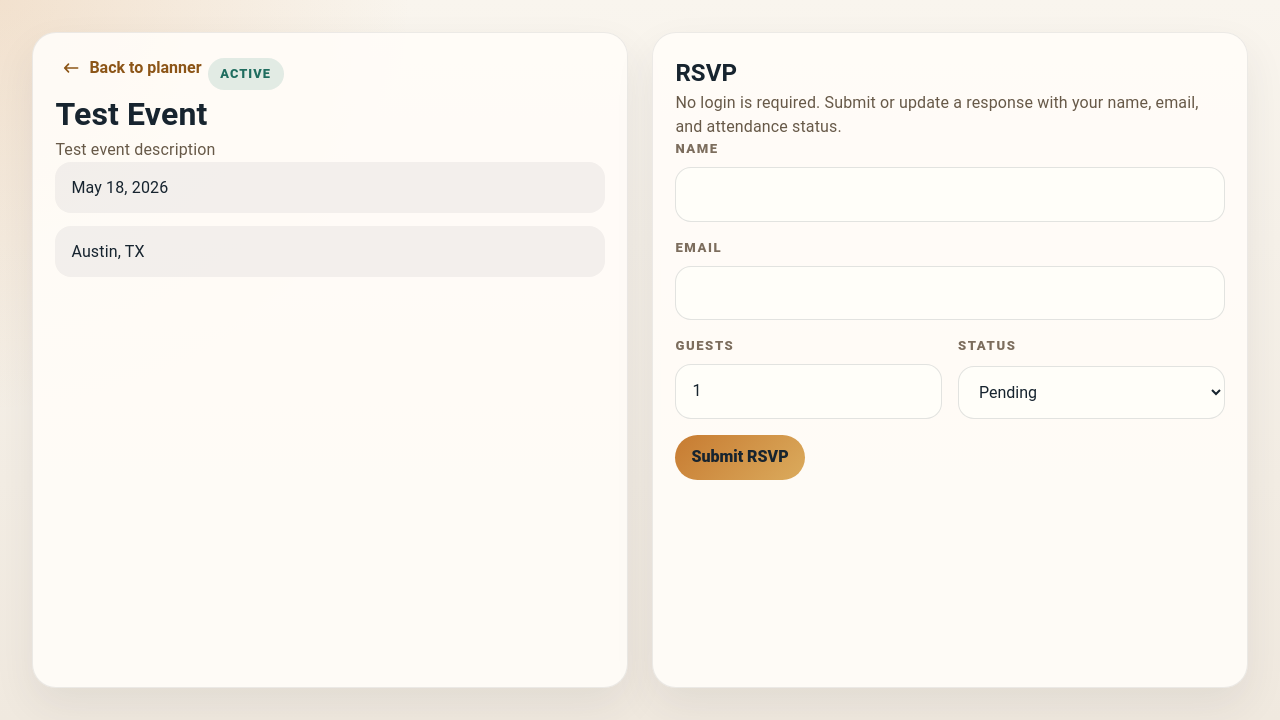
Test case: EventPlannerApp › submits a public rsvp without requiring login
Type "Public Guest" into the field labelled "Name" at [950, 194], box x1=675 y1=167 x2=1225 y2=222
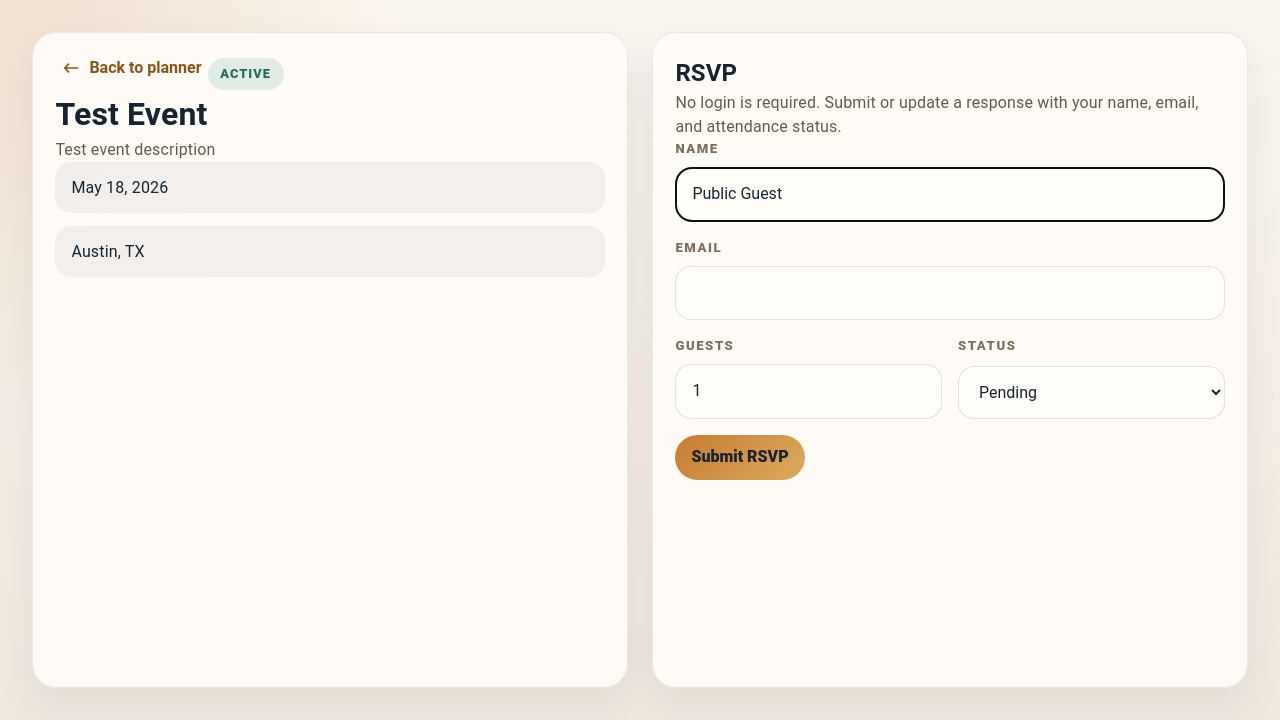
Type "guest@example.com" into the field labelled "Email" at [950, 293], box x1=675 y1=266 x2=1225 y2=320
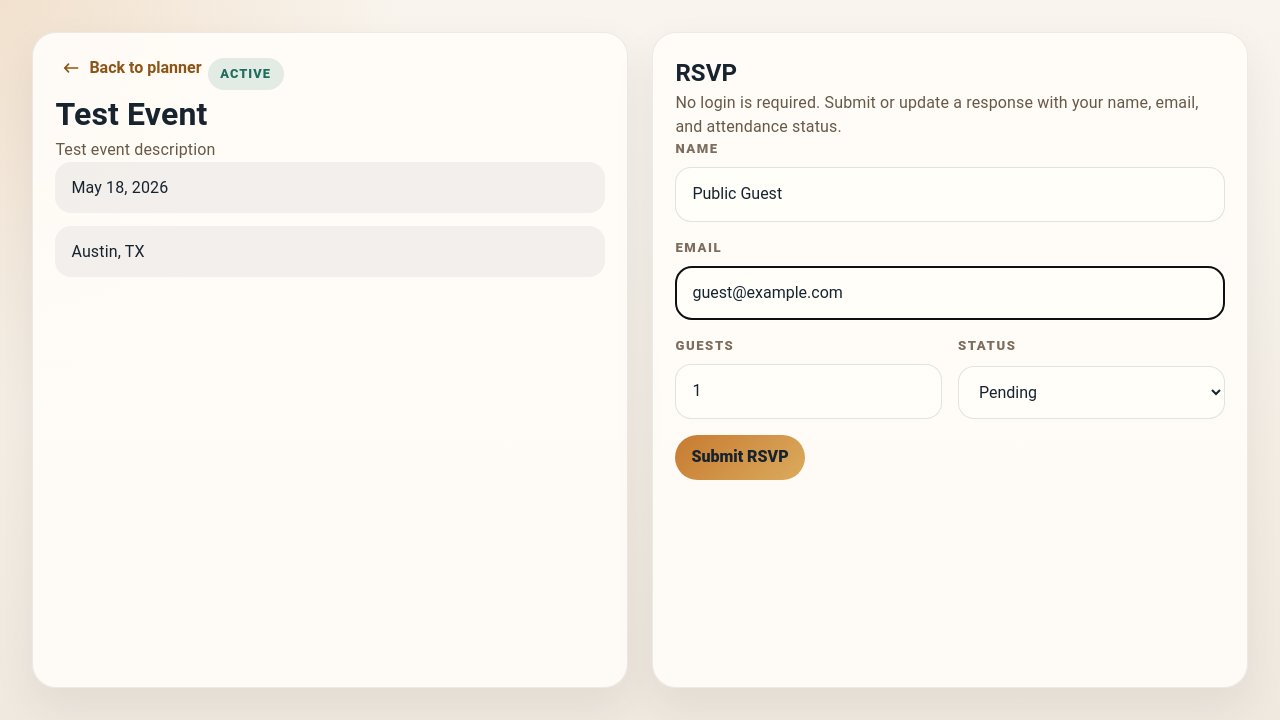
Click the button "Submit RSVP" at [740, 457], box x1=675 y1=435 x2=805 y2=480
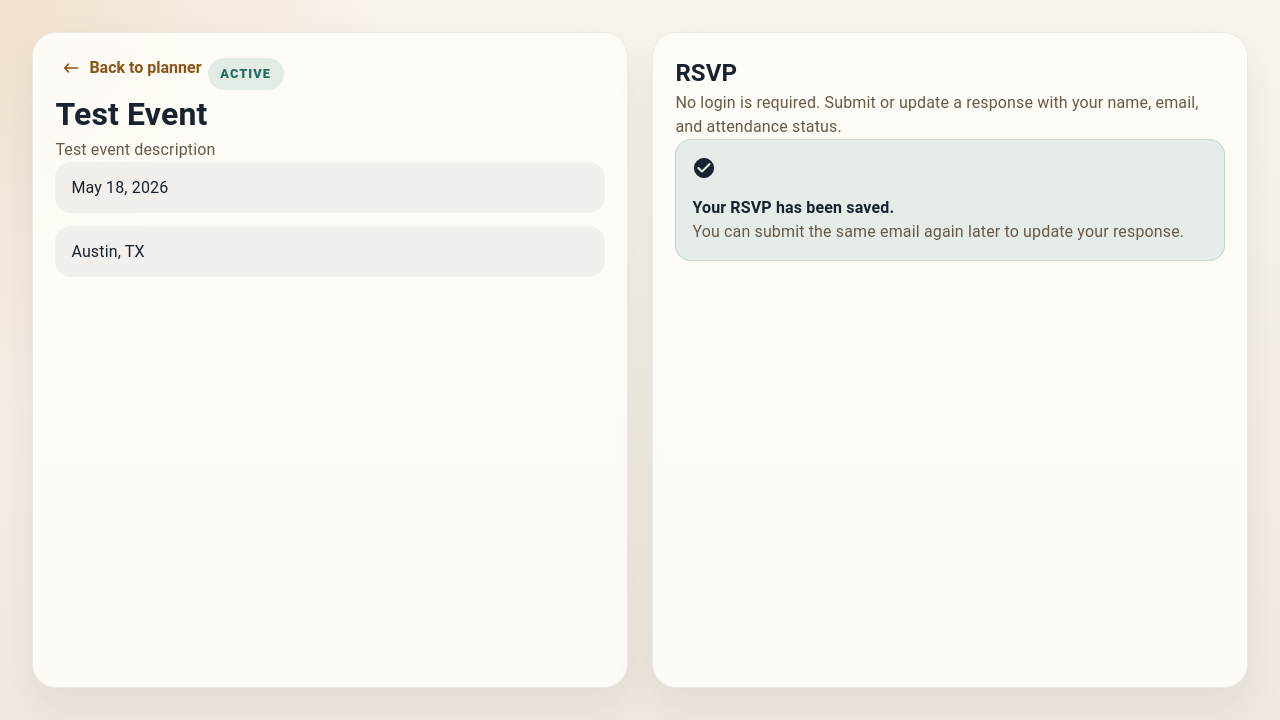
expect the text "Your RSVP has been saved." is shown: met, box x1=692 y1=198 x2=894 y2=217
